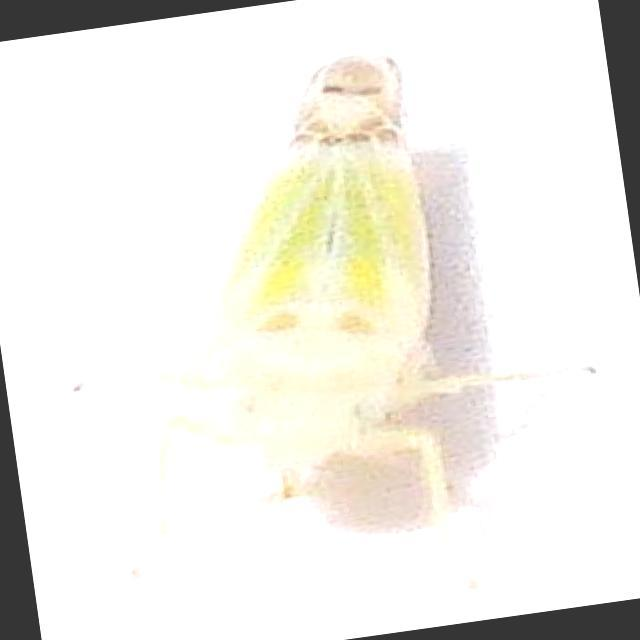green leaf hopper: (172, 56, 474, 517)
